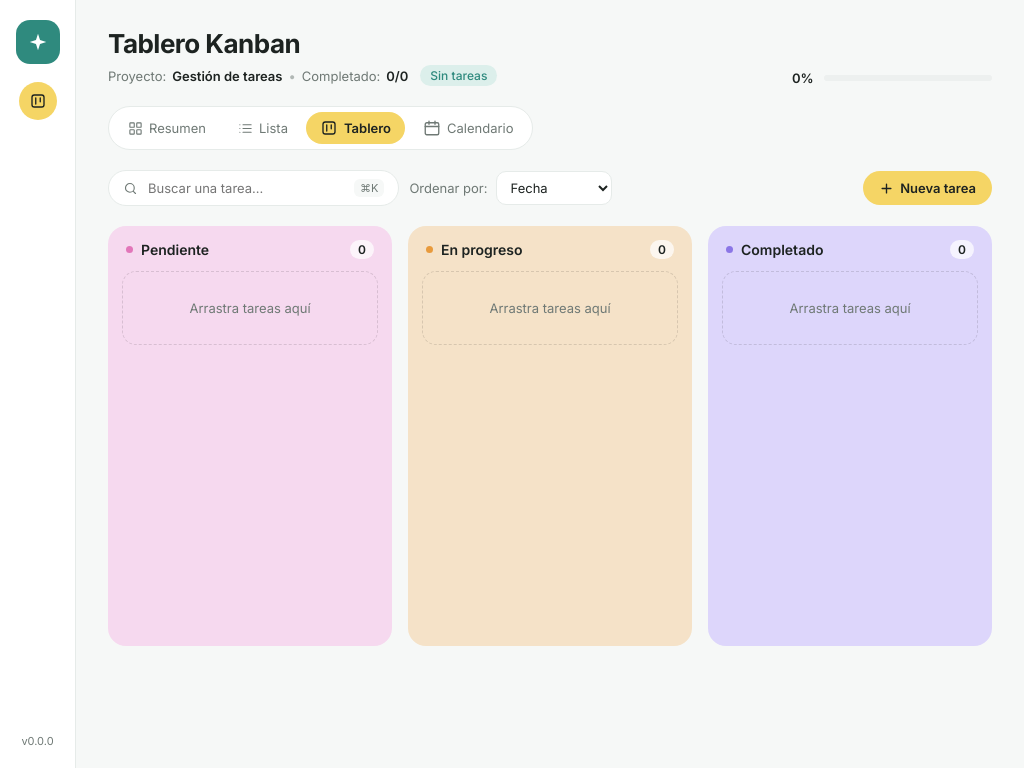
it: App Kanban › la vista Resumen cuenta las tareas por estado
Click the button "Nueva tarea" at {"x": 928, "y": 188}, box [863, 171, 992, 205]
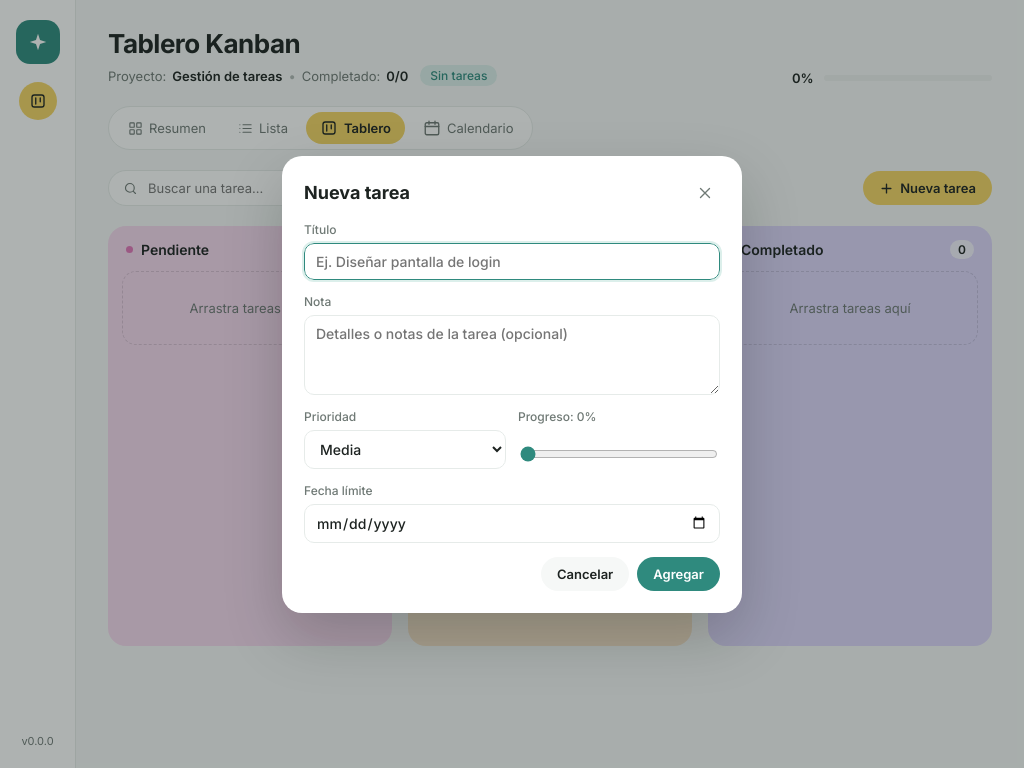
Type "Uno" into the field labelled "Título" at {"x": 512, "y": 261}, box [304, 242, 720, 280]
Click the button "Agregar" at {"x": 679, "y": 574}, box [637, 556, 720, 590]
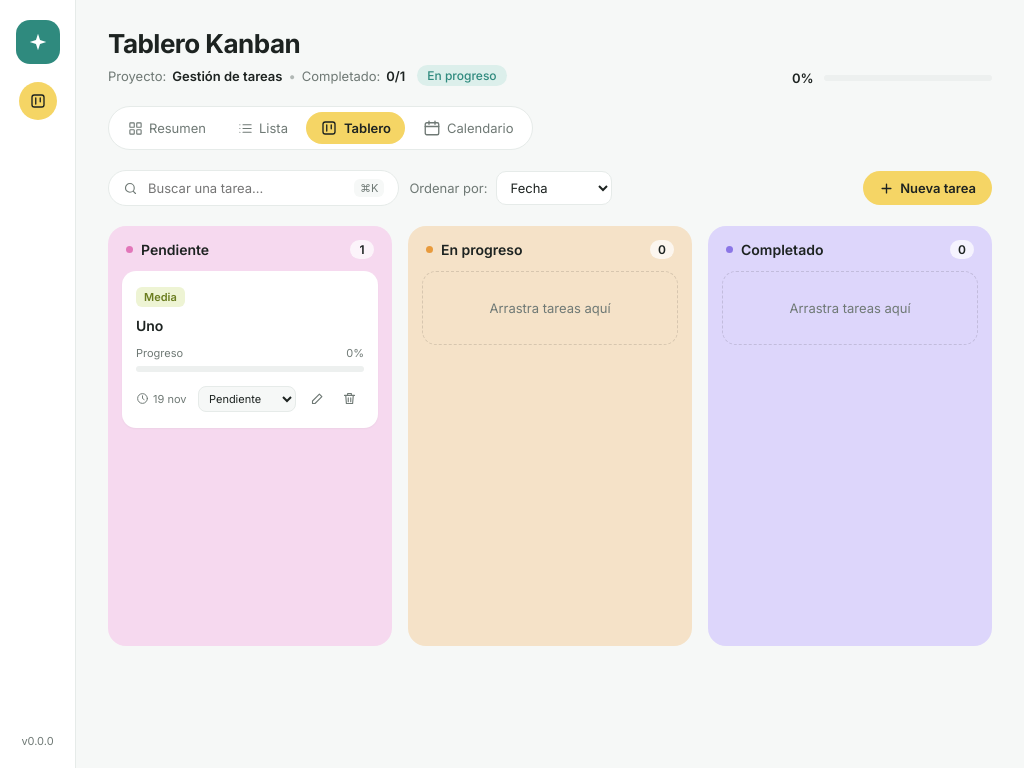
Click the button "Nueva tarea" at {"x": 928, "y": 188}, box [863, 171, 992, 205]
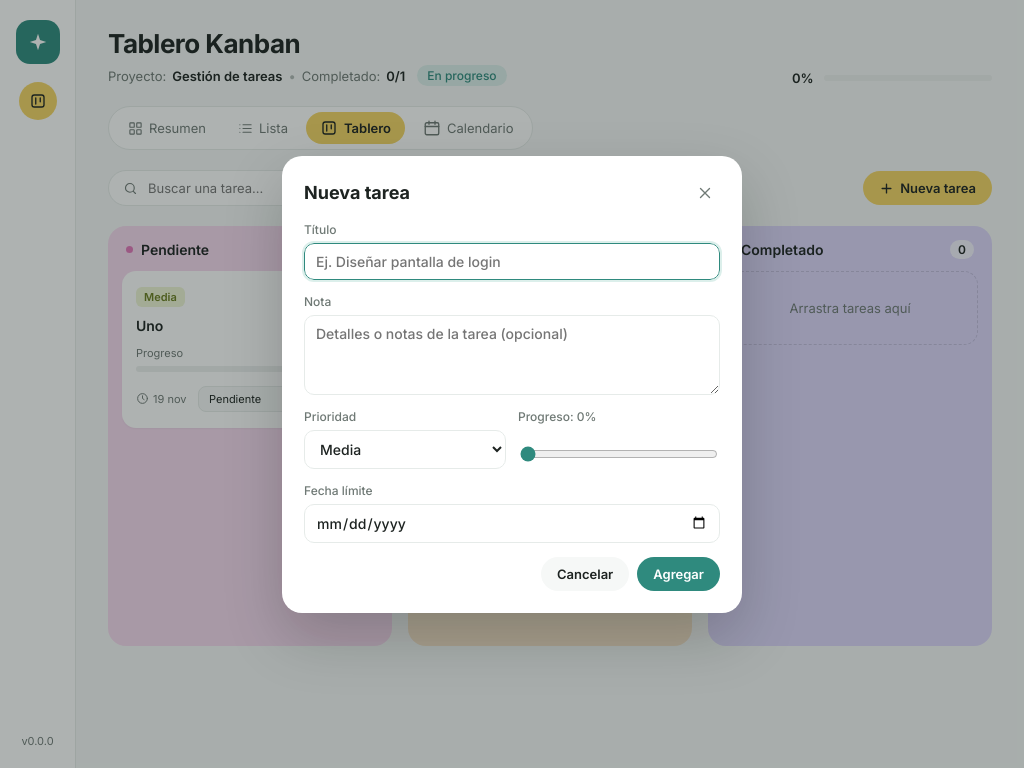
Type "Dos" into the field labelled "Título" at {"x": 512, "y": 261}, box [304, 242, 720, 280]
Click the button "Agregar" at {"x": 679, "y": 574}, box [637, 556, 720, 590]
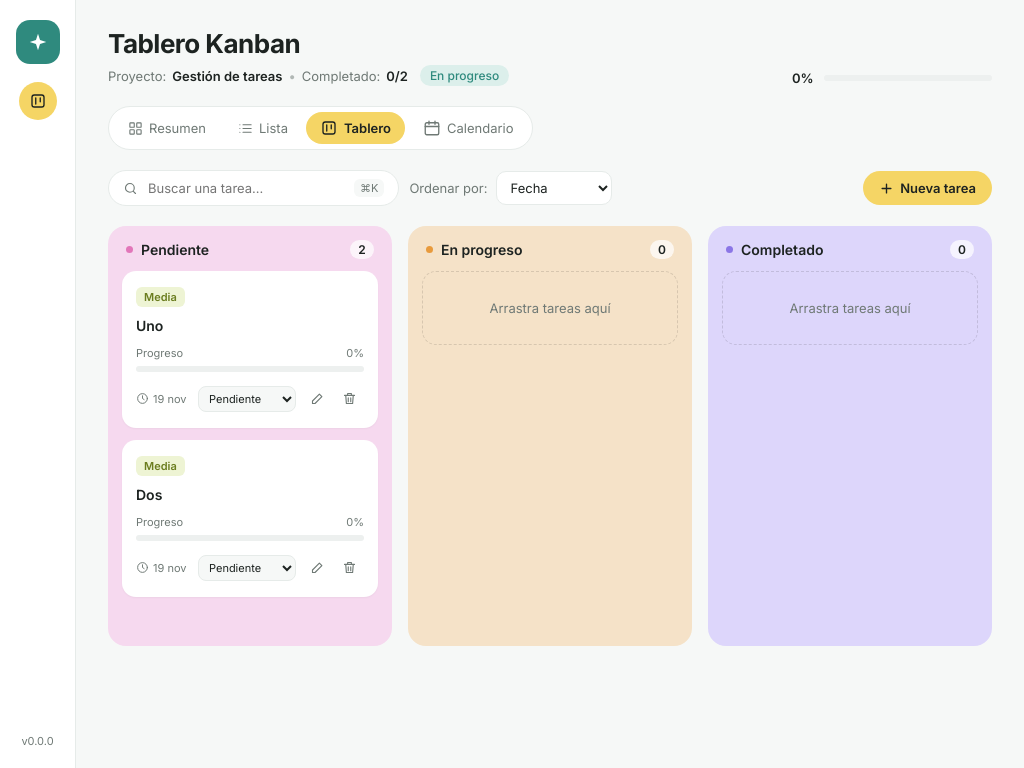
Select "Completado" in the dropdown named "Estado de Dos" at {"x": 247, "y": 568}, box [198, 555, 296, 581]
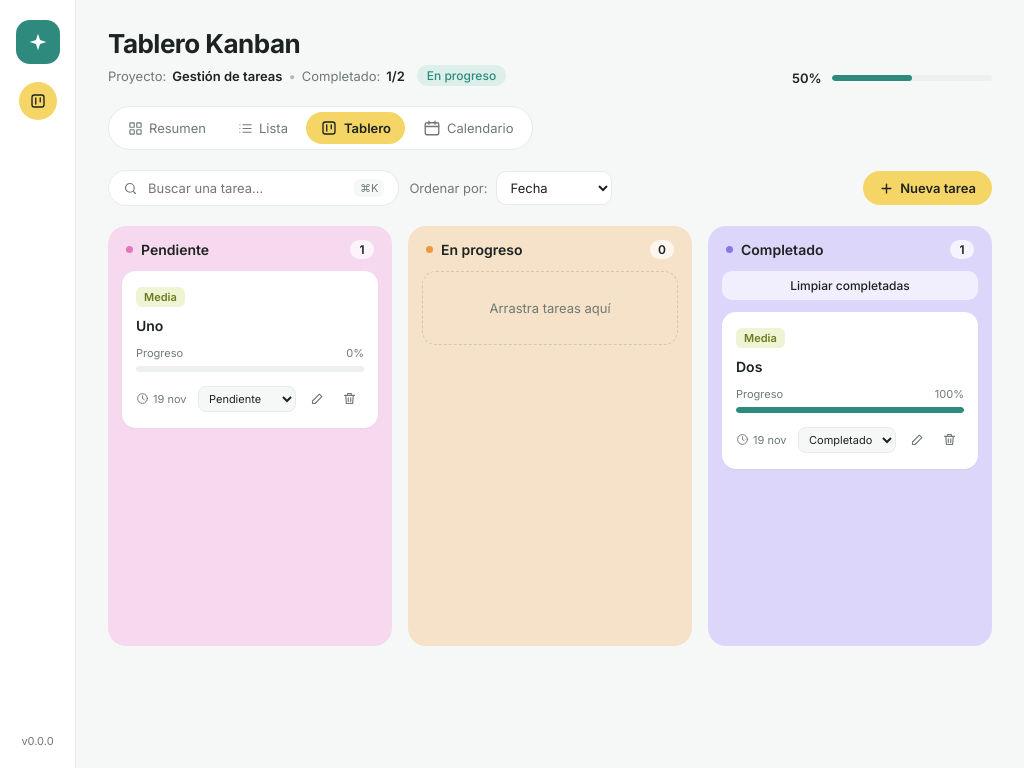
Click the tab "Resumen" at {"x": 167, "y": 128}, box [114, 112, 220, 144]
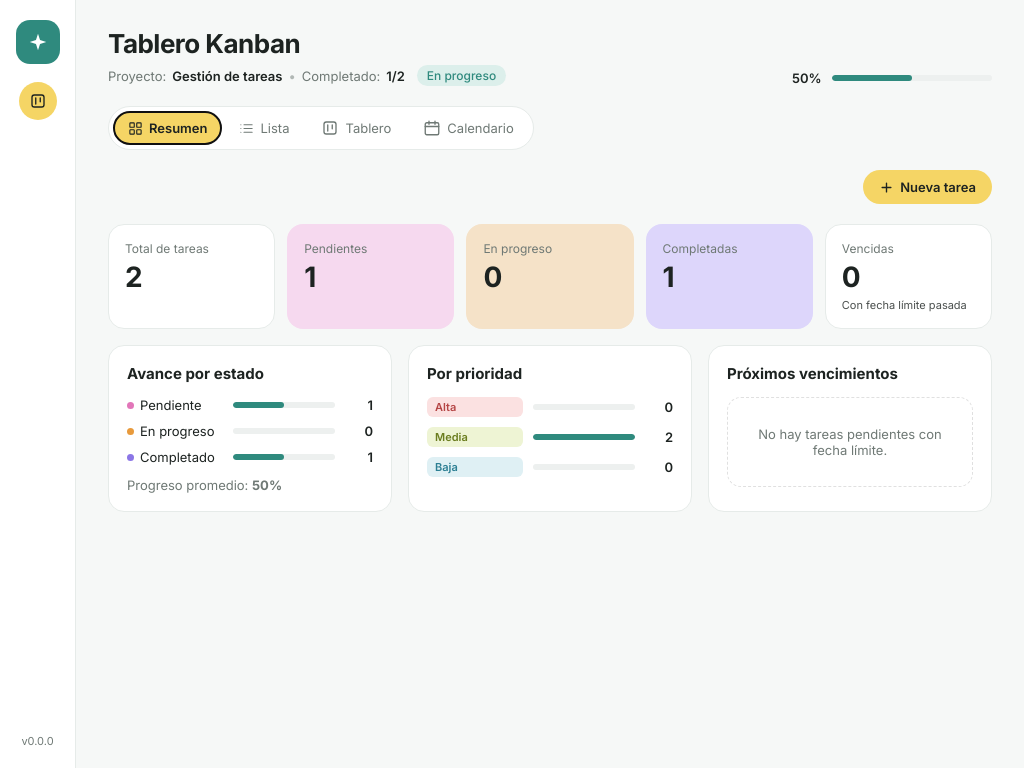
Result: the text "1" below "Completadas" is shown at [663, 260, 674, 294]
Result: the text "2" below "Total de tareas" is shown at [125, 260, 142, 294]
